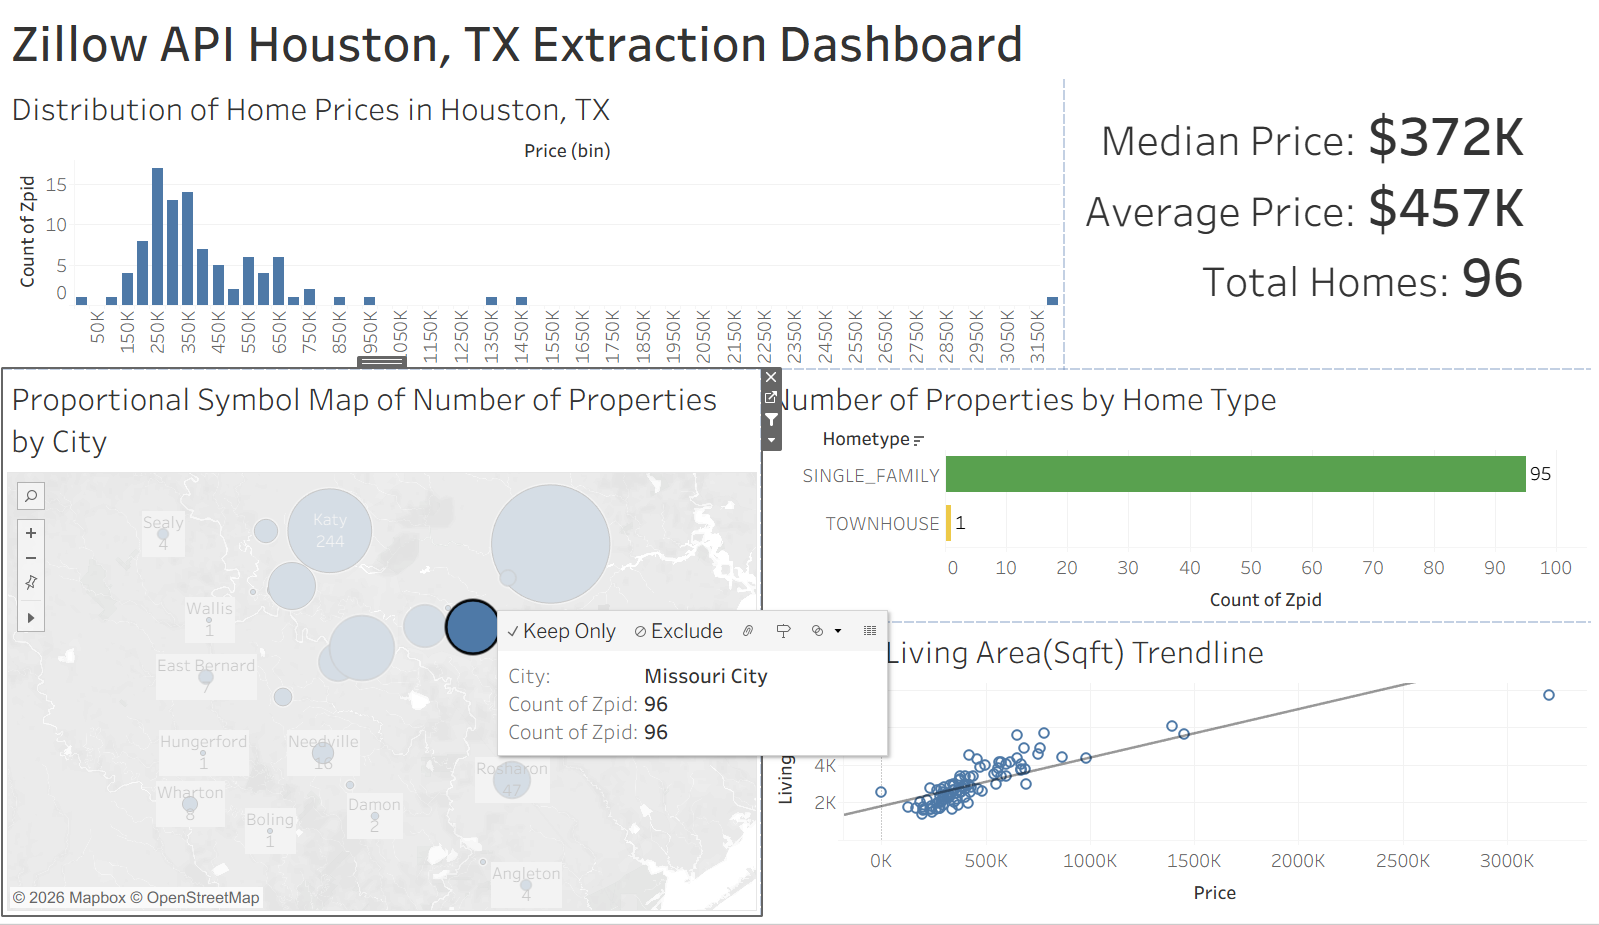

Layout of this report page (visuals, bound fields, positions):
{"tool":"tableau","page":{"name":"Dashboard","canvas":[1000,1000],"units":"permille","ordinal":0},"visuals":[{"type":"title","box":[5,8.6,990,79.9]},{"type":"worksheet","title":"Histogram of Home Prices","mark":"Automatic","rows":["zpid"],"cols":["Price (bin)"],"box":[5,88.5,661.5,313.5]},{"type":"worksheet","title":"Stats Card","mark":"Automatic","box":[666.4,88.5,328.6,313.5]},{"type":"worksheet","title":"Proprotional Symbol Map of Property Count by City","mark":"Automatic","box":[5,402,472.5,589.3]},{"type":"worksheet","title":"# of Properties by Home Type","mark":"Automatic","rows":["hometype"],"cols":["zpid"],"box":[477.5,402,517.5,272.8]},{"type":"worksheet","title":"Price vs Rentestimate Trendline","mark":"Automatic","rows":["livingarea"],"cols":["price"],"box":[477.5,674.9,517.5,316.5]}]}

Visuals, with their boxes on the dashboard's canvas, which has no fixed pixel size, in thousandths of its width and height (x1, y1, x2, y2). These are canvas units, not pixel positions in the 1599x925 screenshot, which may show the page scaled, cropped or inside an application window:
title: pyautogui.locateOnScreen(5, 9, 995, 88)
"Histogram of Home Prices" worksheet: pyautogui.locateOnScreen(5, 88, 666, 402)
"Stats Card" worksheet: pyautogui.locateOnScreen(666, 88, 995, 402)
"Proprotional Symbol Map of Property Count by City" worksheet: pyautogui.locateOnScreen(5, 402, 478, 991)
"# of Properties by Home Type" worksheet: pyautogui.locateOnScreen(478, 402, 995, 675)
"Price vs Rentestimate Trendline" worksheet: pyautogui.locateOnScreen(478, 675, 995, 991)
